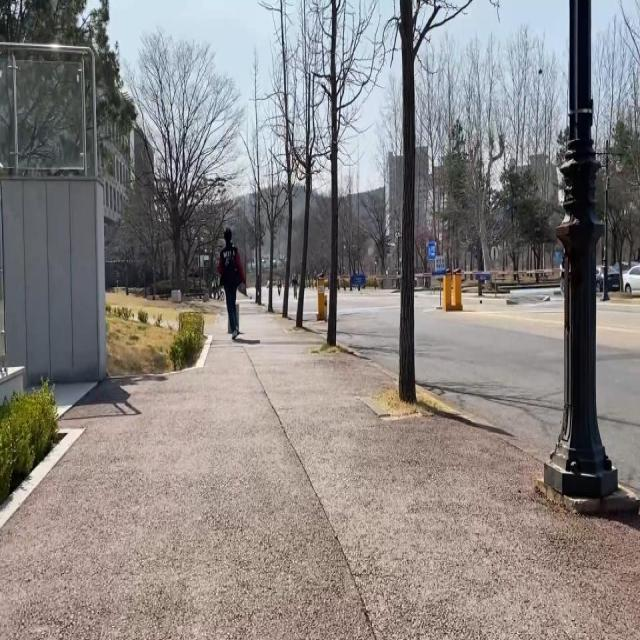sidewalk: (0, 299, 640, 638)
